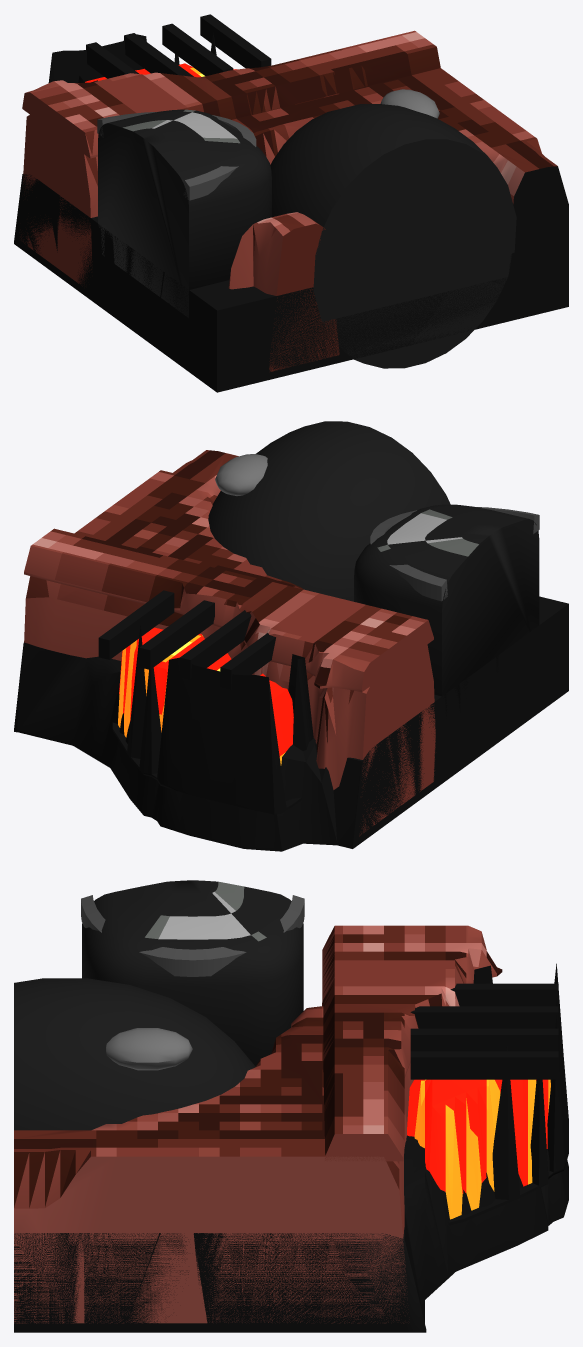
File: deli_boss_7.glb
3 views of the same model, one above another, from view 1: azimuth 30°, elevation 25°; view 2: azimuth 150°, elevation 25°; view 3: azimuth 270°, elevation 25° (orthographic). The views are drawn at different scales.
Visible parts, largest first — view 1: deli_boss_7_sphere_m, deli_boss_7_core, deli_boss_7_frame, deli_boss_7_canopy, deli_boss_7_plate, deli_boss_7_vent_housing, deli_boss_7_slat56.0_m, deli_boss_7_canopy_rim, deli_boss_7_slat58.6_m, deli_boss_7_slat61.2_m, deli_boss_7_slat63.8_m, deli_boss_7_sphere_glint_m; view 2: deli_boss_7_core, deli_boss_7_frame, deli_boss_7_sphere_m, deli_boss_7_plate, deli_boss_7_canopy, deli_boss_7_vent_housing, deli_boss_7_vent_fire, deli_boss_7_slat56.0_m, deli_boss_7_slat58.6_m, deli_boss_7_slat61.2_m, deli_boss_7_canopy_rim, deli_boss_7_sphere_glint_m (+1 smaller); view 3: deli_boss_7_frame, deli_boss_7_core, deli_boss_7_plate, deli_boss_7_sphere_m, deli_boss_7_canopy, deli_boss_7_vent_fire, deli_boss_7_vent_housing, deli_boss_7_slat56.0_m, deli_boss_7_slat58.6_m, deli_boss_7_canopy_rim, deli_boss_7_slat61.2_m, deli_boss_7_sphere_glint_m (+1 smaller).
Part boxes in pixels (x1,y1,x2,y2): deli_boss_7_sphere_m: (270, 104, 516, 368); deli_boss_7_core: (14, 174, 568, 392); deli_boss_7_frame: (19, 68, 568, 371); deli_boss_7_canopy: (98, 109, 271, 317); deli_boss_7_plate: (22, 30, 440, 158); deli_boss_7_vent_housing: (48, 33, 216, 82); deli_boss_7_slat56.0_m: (200, 14, 271, 68); deli_boss_7_canopy_rim: (97, 111, 256, 200); deli_boss_7_slat58.6_m: (162, 23, 233, 75); deli_boss_7_slat61.2_m: (124, 33, 193, 76); deli_boss_7_slat63.8_m: (86, 42, 138, 78); deli_boss_7_sphere_glint_m: (380, 89, 439, 118); deli_boss_7_core: (14, 596, 568, 851); deli_boss_7_frame: (24, 450, 435, 836); deli_boss_7_sphere_m: (208, 421, 450, 601); deli_boss_7_plate: (24, 528, 433, 692); deli_boss_7_canopy: (354, 504, 539, 718); deli_boss_7_vent_housing: (112, 625, 313, 814); deli_boss_7_vent_fire: (118, 627, 293, 765); deli_boss_7_slat56.0_m: (98, 590, 174, 659); deli_boss_7_slat58.6_m: (139, 600, 214, 669); deli_boss_7_slat61.2_m: (180, 610, 251, 679); deli_boss_7_canopy_rim: (370, 507, 539, 601); deli_boss_7_sphere_glint_m: (215, 454, 267, 495); deli_boss_7_frame: (14, 1003, 413, 1323); deli_boss_7_core: (14, 1135, 568, 1332); deli_boss_7_plate: (322, 925, 502, 1161); deli_boss_7_sphere_m: (14, 978, 255, 1130); deli_boss_7_canopy: (82, 880, 303, 1066); deli_boss_7_vent_fire: (407, 1079, 550, 1219); deli_boss_7_vent_housing: (448, 963, 568, 1225); deli_boss_7_slat56.0_m: (410, 1051, 558, 1079); deli_boss_7_slat58.6_m: (410, 1028, 558, 1051); deli_boss_7_canopy_rim: (81, 895, 304, 976); deli_boss_7_slat61.2_m: (410, 1006, 558, 1028); deli_boss_7_sphere_glint_m: (106, 1028, 192, 1070).
Bounding box in the file's own units: 24 × 15.03 × 27.
